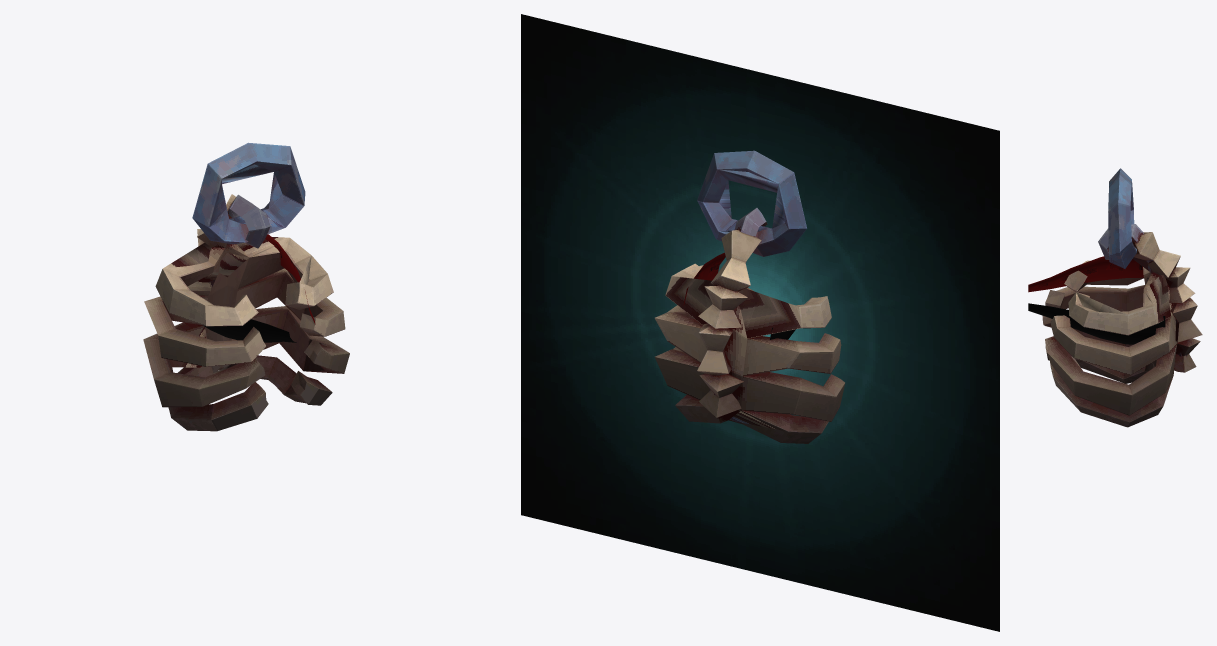
File: item_wisplantern.glb
The picture shows the model from 3 angles, left to right: view 1: azimuth 30°, elevation 25°; view 2: azimuth 150°, elevation 25°; view 3: azimuth 270°, elevation 25°; orthographic projection. The views are drawn at different scales.
Visible parts, largest first — view 1: WispLantern, FireMesh; view 2: Quad, WispLantern; view 3: WispLantern, FireMesh.
Boxes of the visible parts, x1,y1,x2,y2 form: WispLantern: (143, 142, 349, 431); FireMesh: (202, 234, 315, 342); Quad: (521, 14, 999, 631); WispLantern: (654, 150, 845, 443); WispLantern: (1042, 168, 1202, 427); FireMesh: (1028, 256, 1165, 344).
Bounding box in the file's own units: 0.8309 × 0.8309 × 0.312.
Materials: 3 (3 with a texture image).
